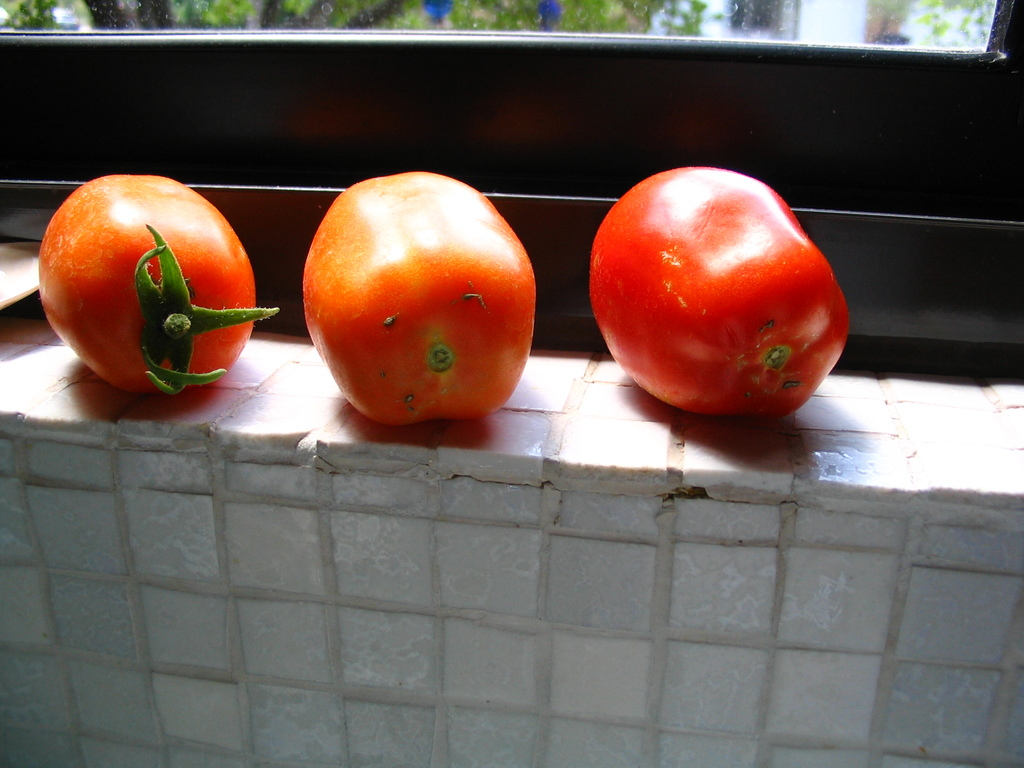Tomato: (562, 151, 851, 421), (298, 172, 533, 426), (32, 174, 278, 391)
